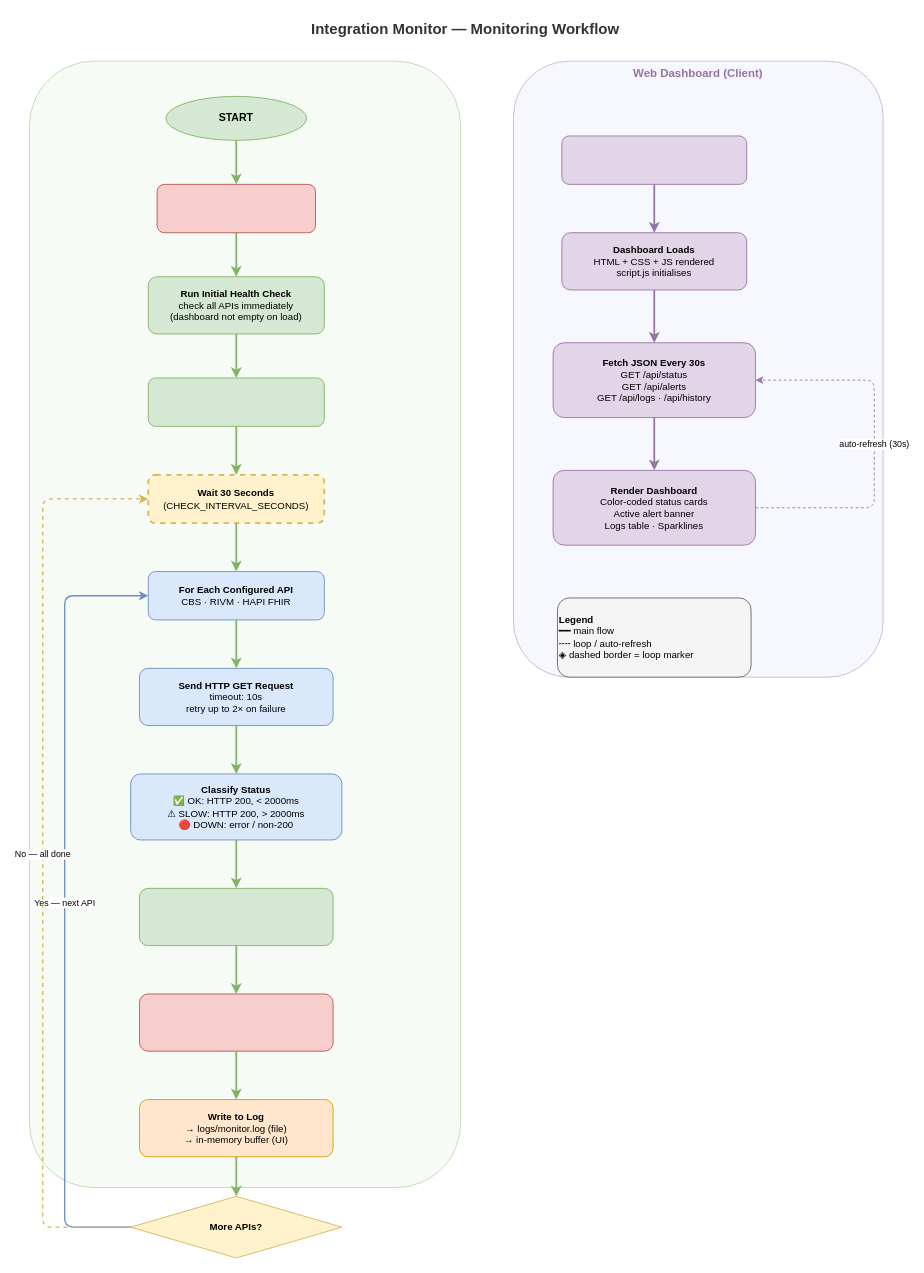
This 924x1273 diagram has some shape labels left out. Each missing label, with the box of its shape:
Alert Management SLOW/DOWN → raise alert Recovered to OK → clear alert: (139, 993, 333, 1051)
Background Monitor: (29, 60, 461, 1188)
Flask App Starts app.py initialises: (156, 183, 315, 233)
Start Background Thread daemon thread, runs forever: (147, 377, 324, 426)
Update Shared State + History latest result · last 10 checks (thread-safe lock): (139, 887, 333, 946)
User Opens Dashboard GET / → dashboard.html: (561, 135, 747, 184)
